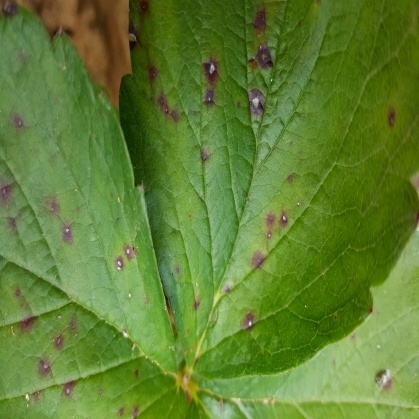Leaf_Spot: (0, 40, 301, 418), (0, 0, 369, 286), (179, 0, 418, 418)
